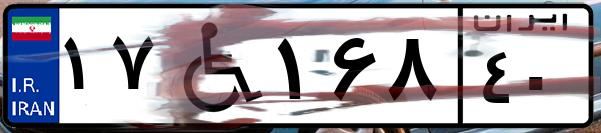0: (525, 38, 570, 115)
1: (270, 28, 330, 110), (57, 26, 110, 100)
4: (475, 38, 525, 113)
6: (330, 28, 385, 110)
7: (110, 28, 158, 98)
8: (385, 28, 445, 110)
ژ (معلولین و جانبازان): (158, 12, 270, 120)
